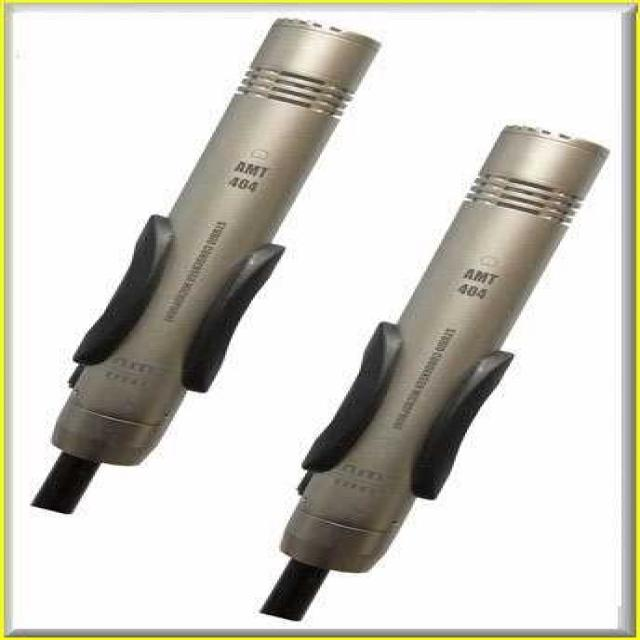microphone: (272, 131, 604, 617), (38, 22, 370, 504)
